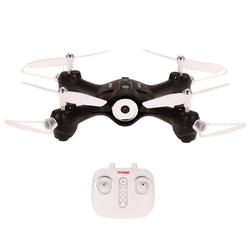drone: (2, 46, 250, 146)
